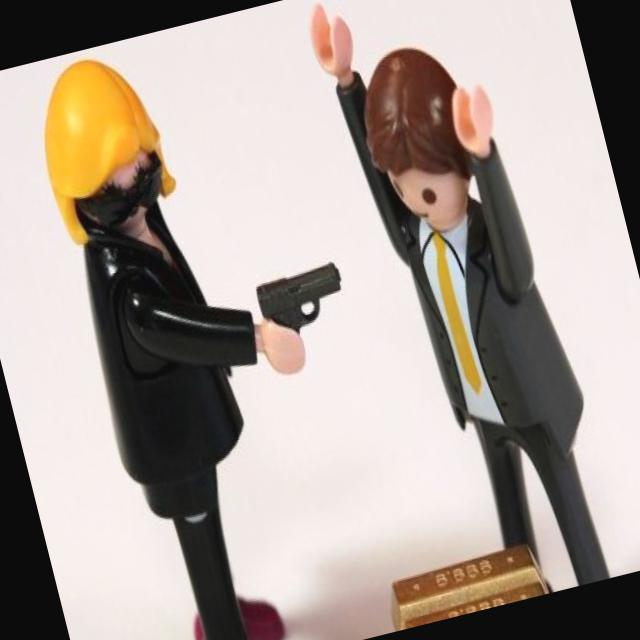handgun: (248, 252, 362, 380)
